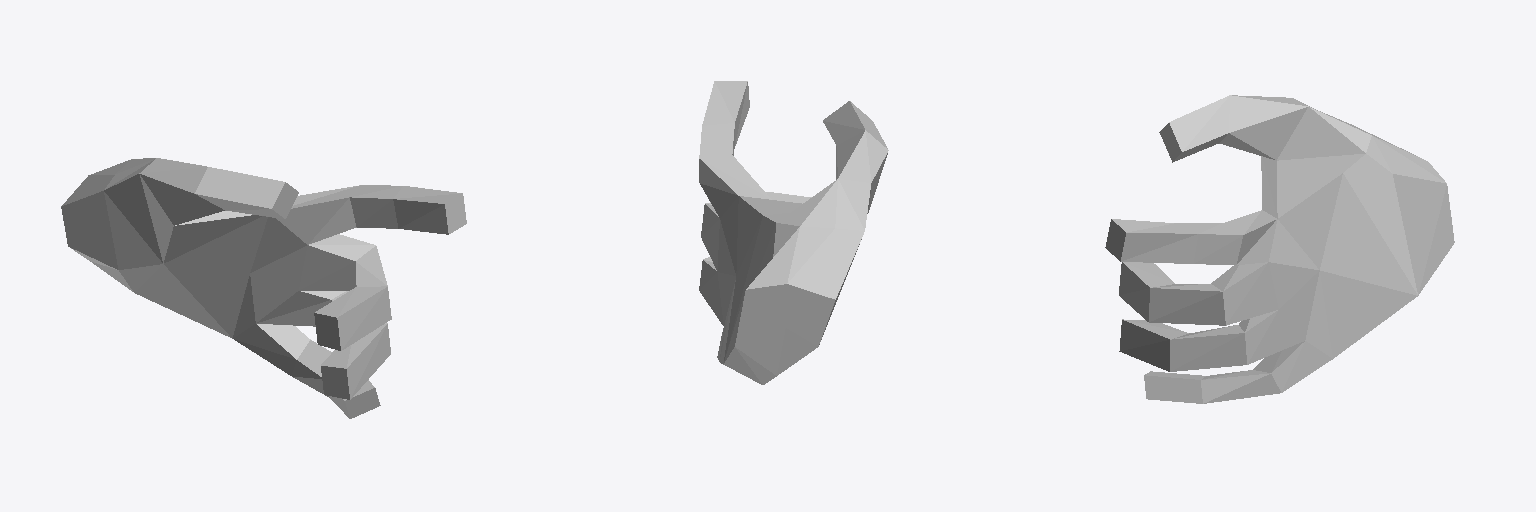
The model's file is Flute_LeftHand03.obj.
3 renders of one model, left to right at view 1: azimuth 30°, elevation 25°; view 2: azimuth 150°, elevation 25°; view 3: azimuth 270°, elevation 25°, orthographic.
Visible parts, largest first — view 1: Converted object 0; view 2: Converted object 0; view 3: Converted object 0.
Part boxes in pixels (left/top/right/bottom): Converted object 0: left=61, top=158, right=466, bottom=418; Converted object 0: left=699, top=81, right=888, bottom=384; Converted object 0: left=1105, top=95, right=1454, bottom=403.
Size of the model in its own units: 4.25 by 3.88 by 4.9.